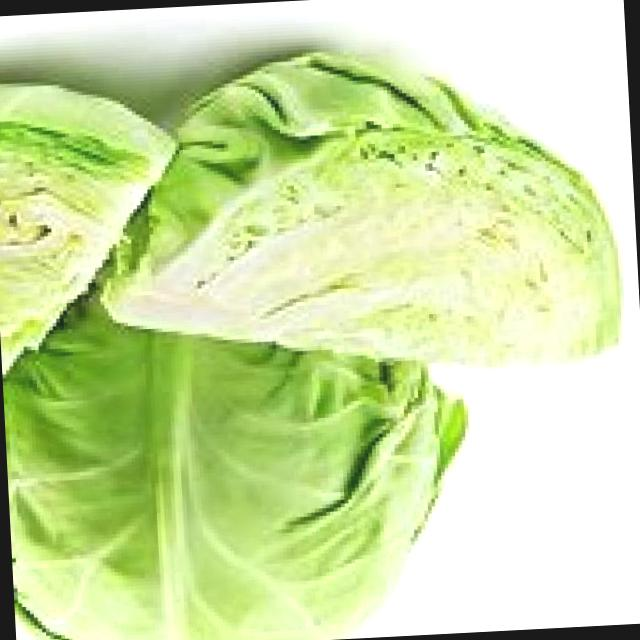cabbage: (89, 25, 634, 400), (0, 258, 476, 640)
